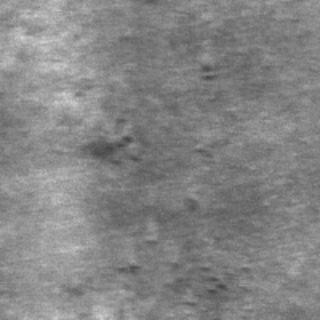rolled pit: (157, 252, 230, 318), (78, 116, 150, 168)
